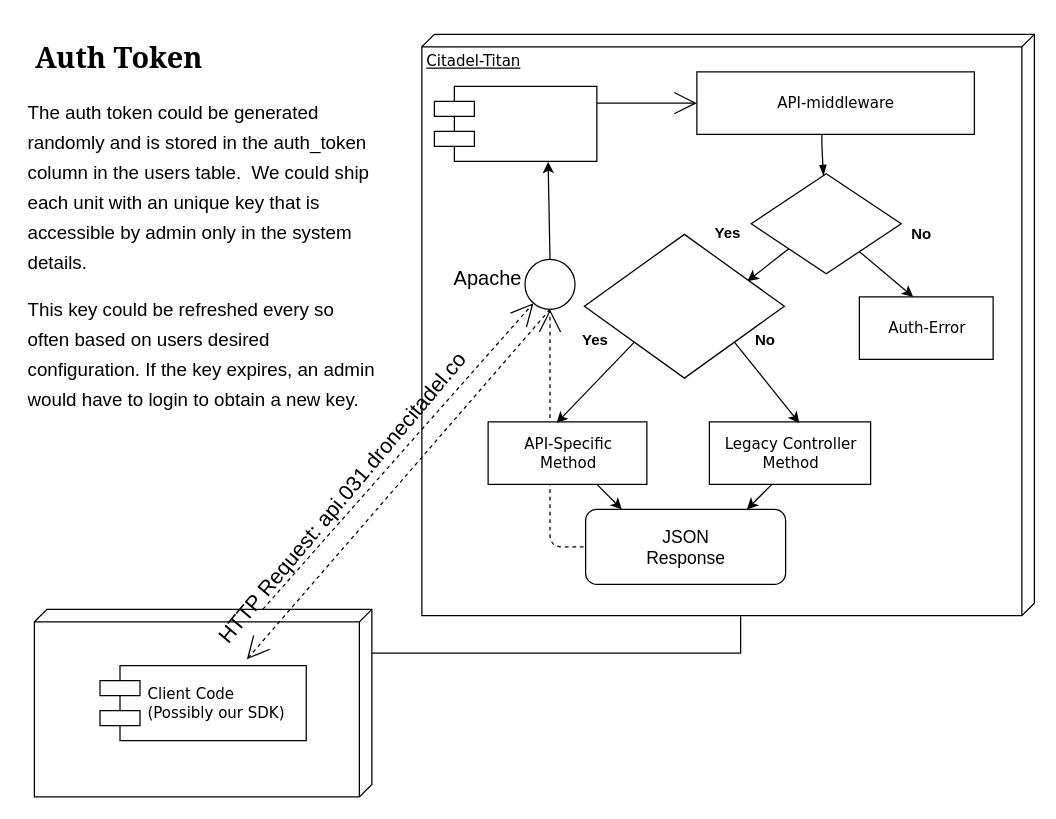
Some shapes in this 1056 by 819 pixel diagram are drawn without their labels. The box of each missing label's shape, as (x1, y1, x2, y2) in pixels:
ApiController : Does route need custom logic?: (583, 233, 784, 378)
Client-Device: (33, 608, 372, 797)
Is Authorized via auth-token: (750, 172, 901, 274)
Laravel Router: (433, 85, 597, 161)
